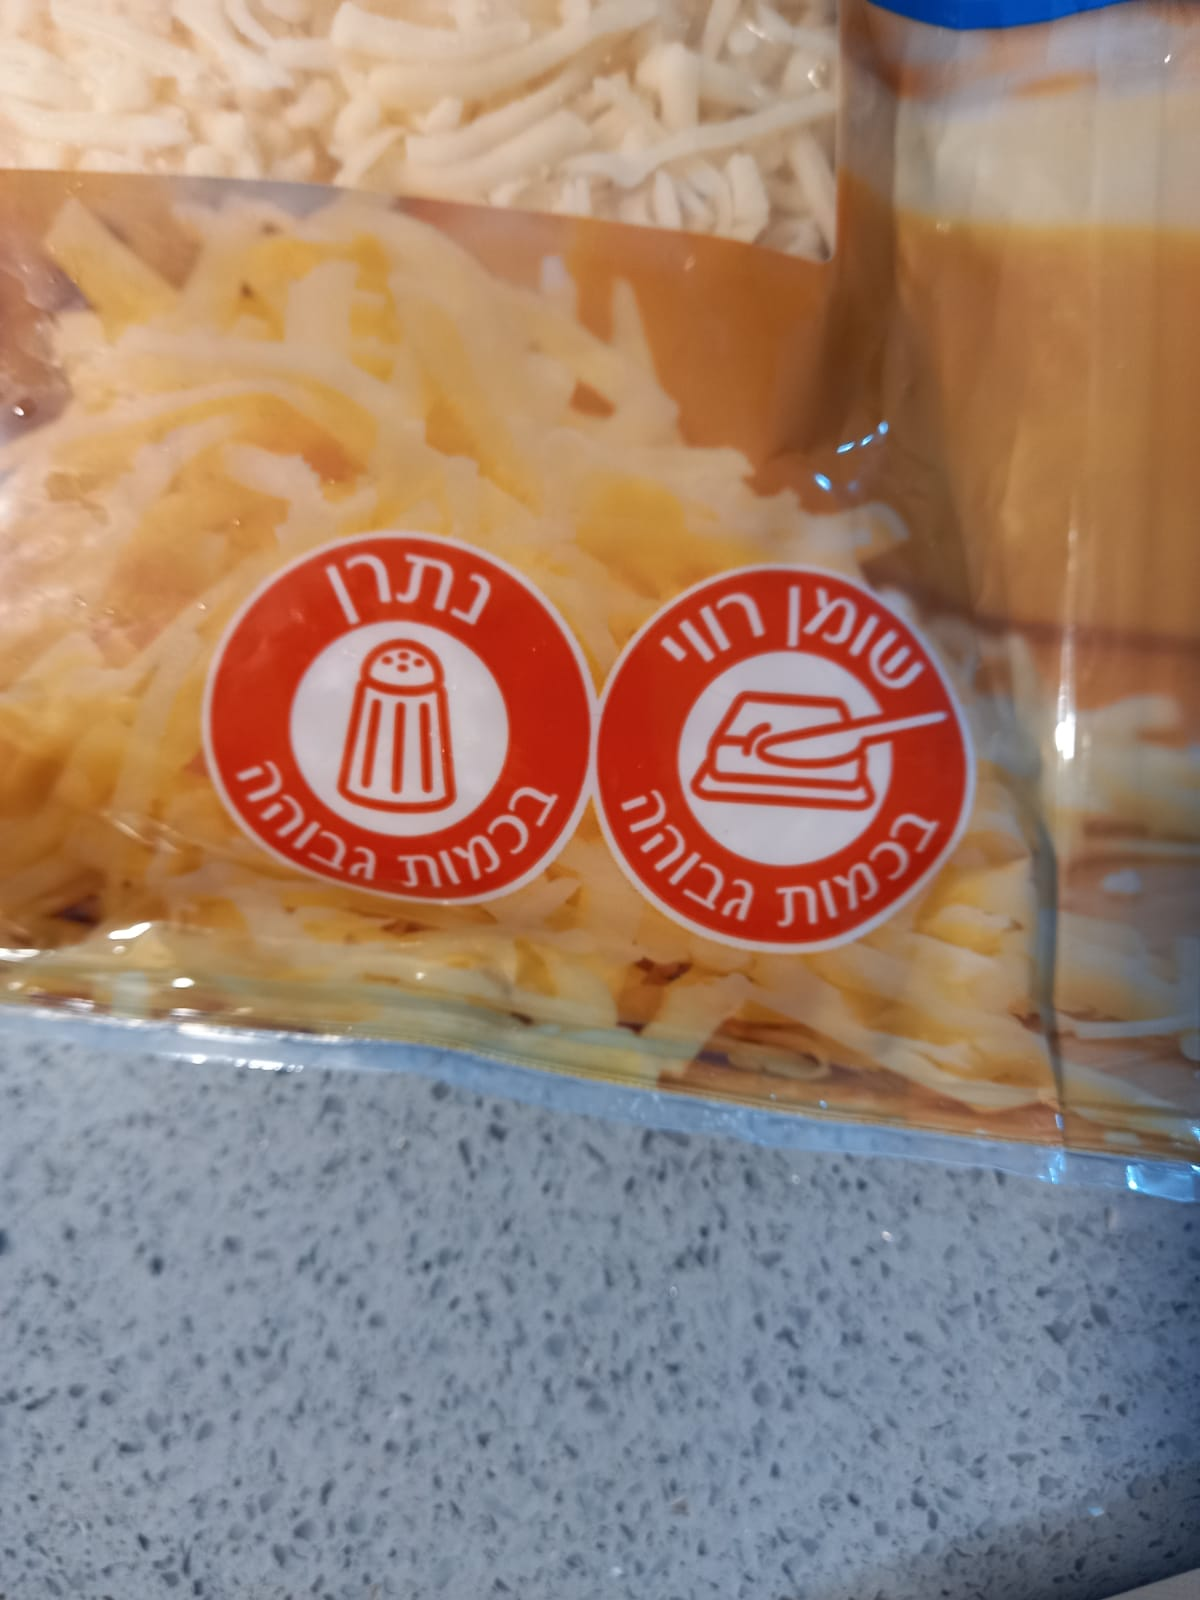fat: (591, 566, 984, 957)
salt: (197, 535, 599, 906)
